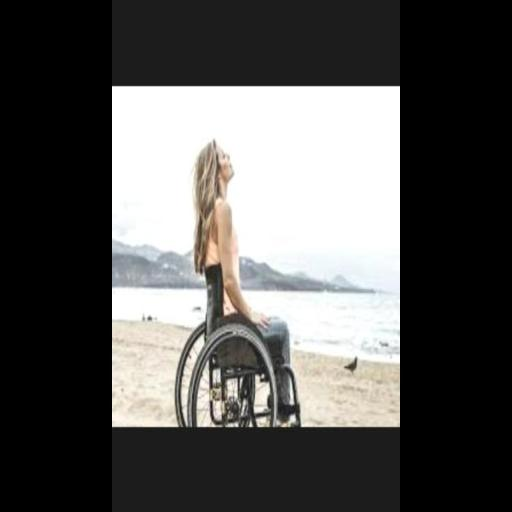cadeira_de_rodas: (171, 124, 305, 426)
